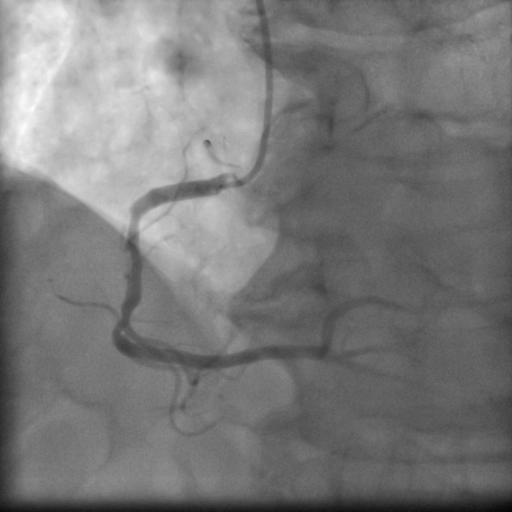Stenosis: (116, 202, 143, 331)
